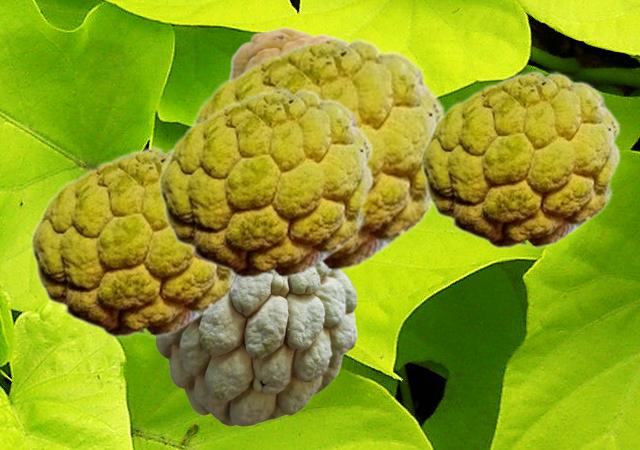atis: (181, 36, 445, 272), (157, 87, 373, 278), (29, 146, 240, 337), (419, 70, 620, 248), (155, 269, 356, 425), (228, 26, 347, 76)
